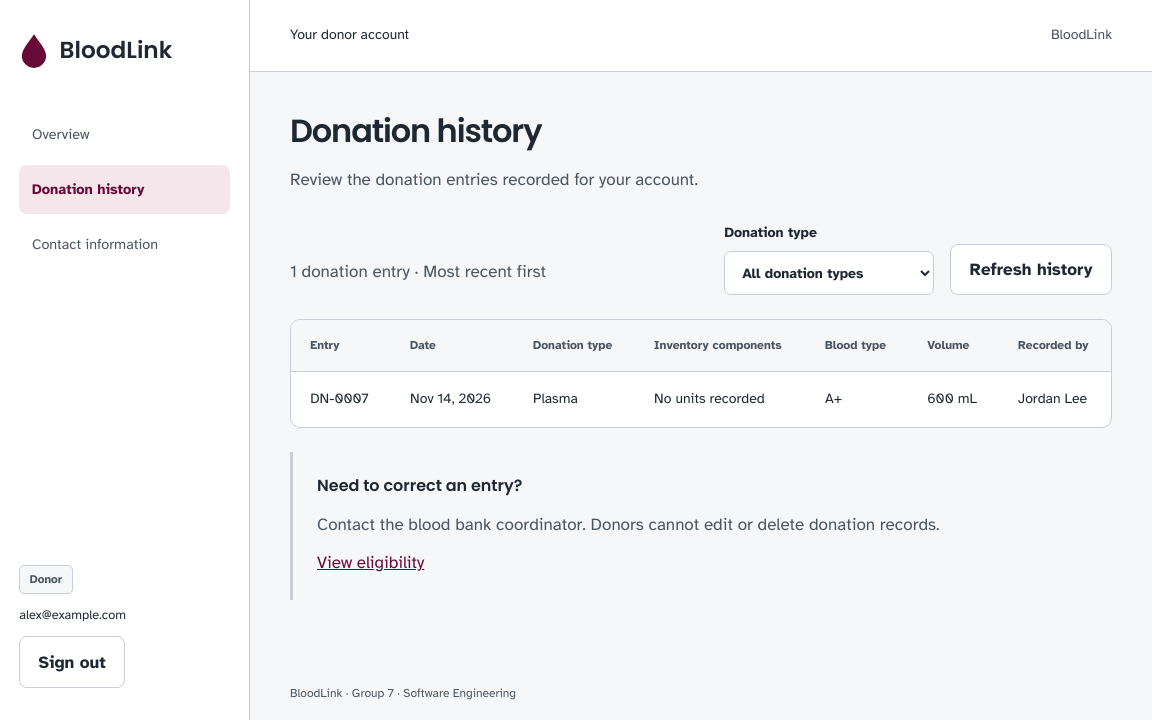
Test: history shows recorder and filters without inventing empty records
Expected: the cell "Jordan Lee" is shown, [999,372,1111,427]
Expected: the cell "DN-0007" is shown, [291,372,391,427]
Step 1. Select "Whole blood" in the dropdown labelled "Donation type" → (829, 273), box [724,251,934,295]
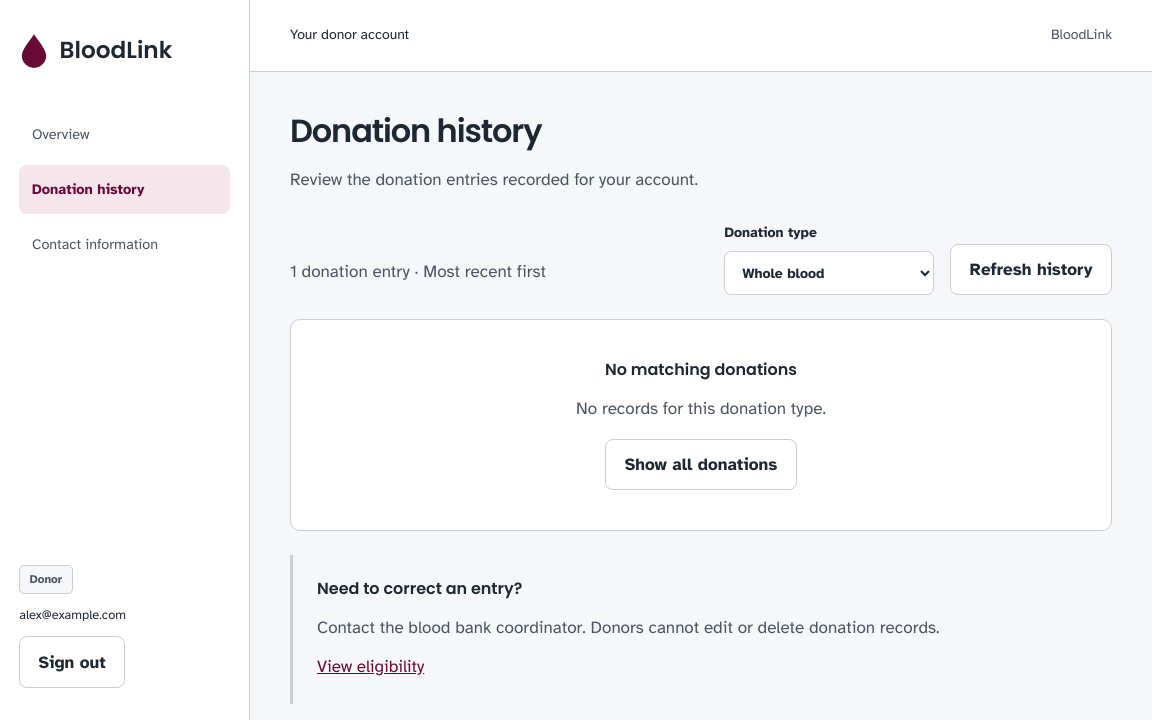
Now the heading "No matching donations" is shown, box [605,358,797,381]
Step 2. Click the button "Show all donations" → (701, 464), box [605,438,797,490]
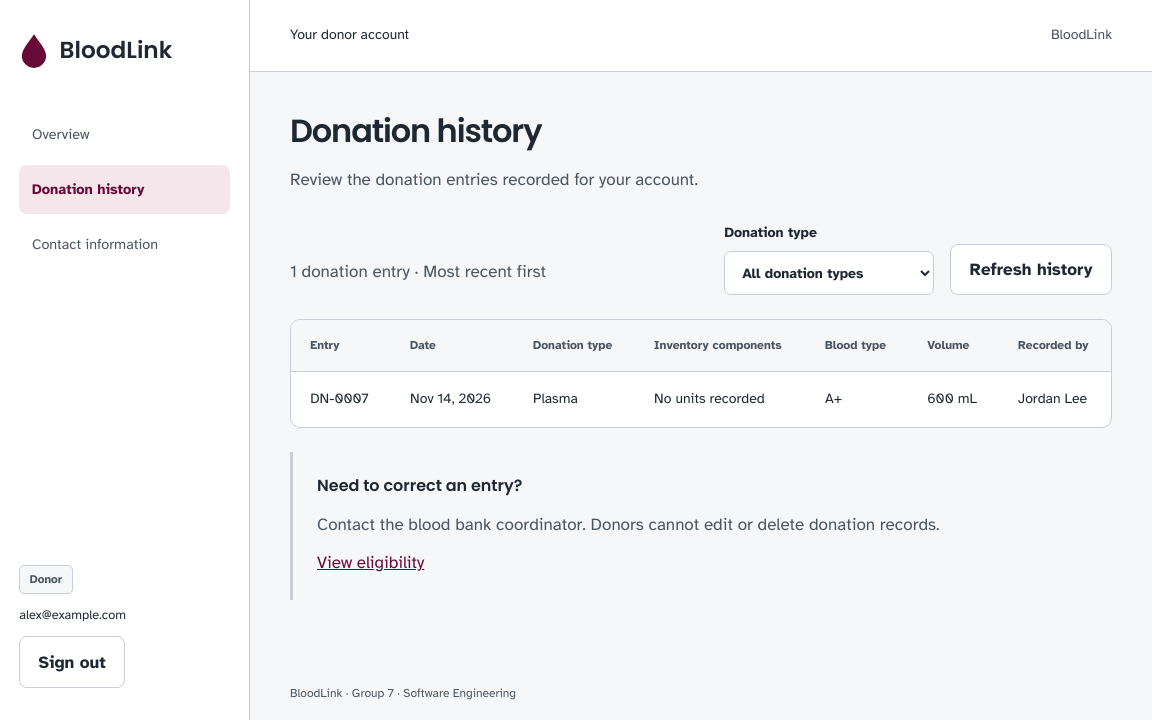
Now the cell "Jordan Lee" is shown, box [999,372,1111,427]
